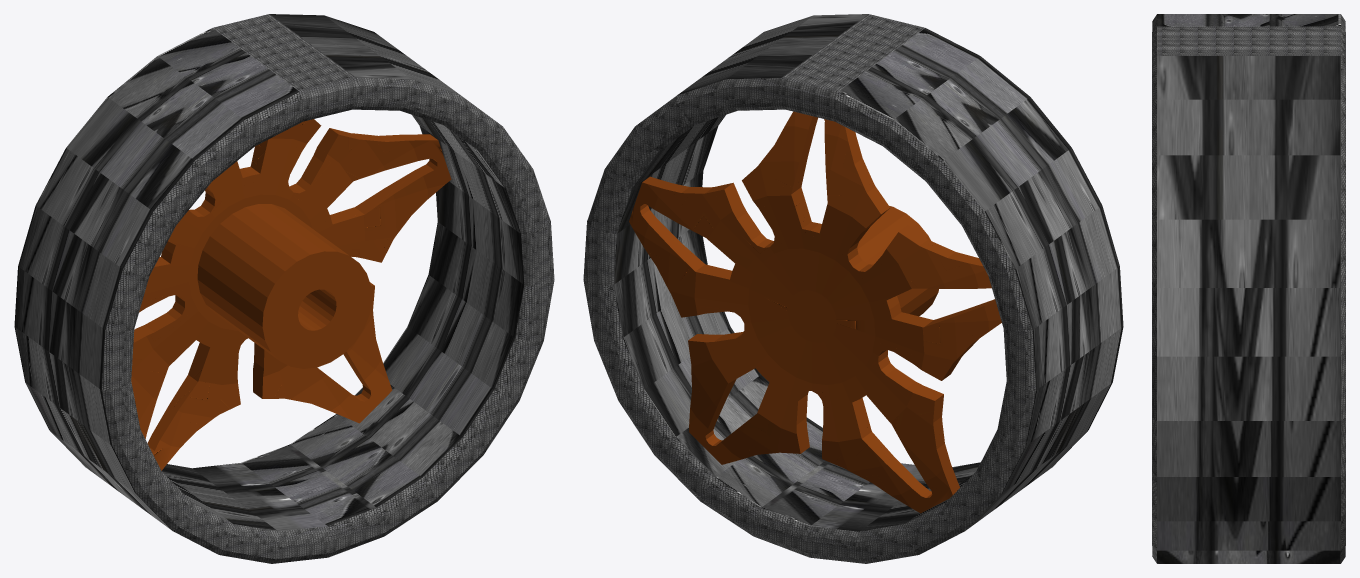
The model's file is llantaAIz.obj.
3 renders of one model, left to right at view 1: azimuth 30°, elevation 25°; view 2: azimuth 150°, elevation 25°; view 3: azimuth 270°, elevation 25°, orthographic. The views are drawn at different scales.
Visible parts, largest first — view 1: Mesh76, Mesh75; view 2: Mesh76, Mesh75; view 3: Mesh76.
Boxes of the visible parts, left/top/right/bottom form: Mesh76: left=14, top=14, right=554, bottom=563; Mesh75: left=131, top=119, right=451, bottom=470; Mesh76: left=583, top=14, right=1123, bottom=563; Mesh75: left=629, top=111, right=1001, bottom=513; Mesh76: left=1152, top=14, right=1345, bottom=563.
Size of the model in its own units: 30.69 by 30.63 by 10.81.
